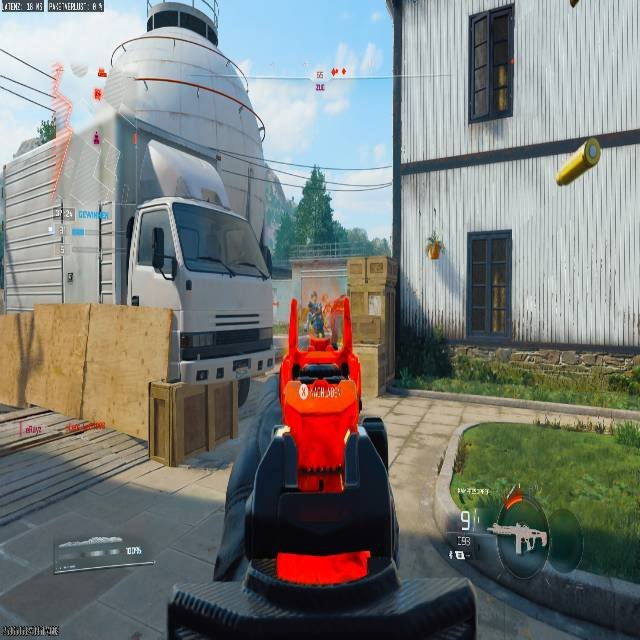head: (142, 0, 220, 46), (309, 291, 317, 302)
player: (305, 291, 324, 337)
